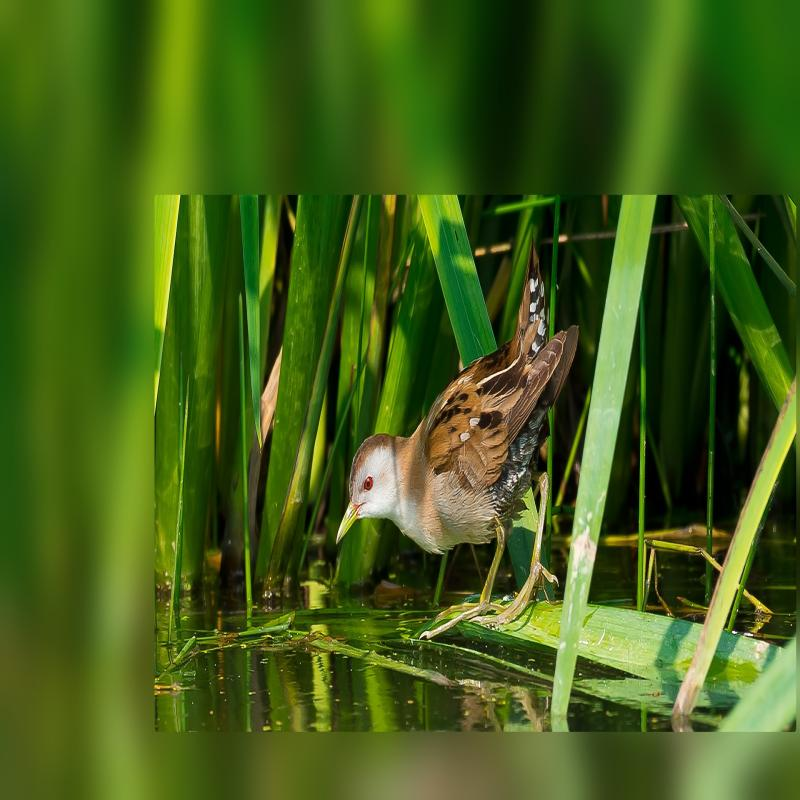little crake: (318, 244, 583, 616)
